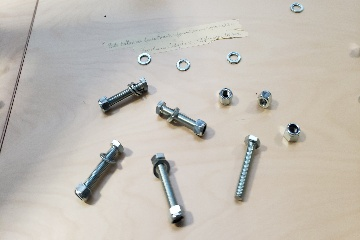Bolt: (231, 135, 261, 204)
FalseAssembly: (73, 139, 127, 205), (147, 153, 191, 228)
FinishedAssembly: (154, 99, 208, 139), (96, 77, 148, 115)
Nut: (282, 122, 301, 143), (256, 89, 274, 108), (219, 89, 234, 104)
Washer: (226, 50, 243, 65), (135, 52, 153, 65), (175, 59, 191, 71), (289, 2, 304, 13)
